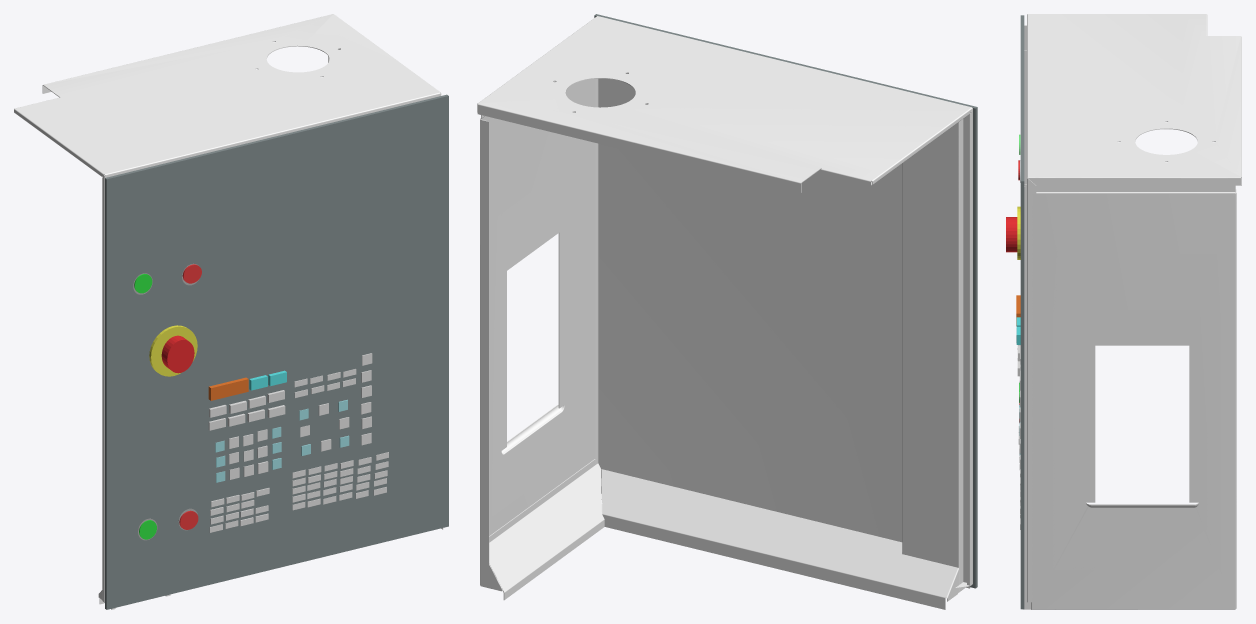
Rendered from control panel new versio.fbx.
3 views of the same model, side by side, from view 1: azimuth 30°, elevation 25°; view 2: azimuth 150°, elevation 25°; view 3: azimuth 270°, elevation 25° (orthographic). The views are drawn at different scales.
Parts seen in each view (by area): view 1: Cube.002, Cube.011, ST20_25_Reboot_2_axis_STL___ST20_25_Reboot_2_axis_STEP_2019., Cylinder.008, Cylinder.009, Cube.001; view 2: ST20_25_Reboot_2_axis_STL___ST20_25_Reboot_2_axis_STEP_2019. (×4), Cube.002; view 3: ST20_25_Reboot_2_axis_STL___ST20_25_Reboot_2_axis_STEP_2019. (×3), Cube.011, Cube.002, Cylinder.009.
Part boxes in pixels (<box>): Cube.002: <box>105,96,441,609</box>; Cube.011: <box>112,94,448,607</box>; ST20_25_Reboot_2_axis_STL___ST20_25_Reboot_2_axis_STEP_2019.: <box>14,14,441,602</box>; Cylinder.008: <box>149,325,197,376</box>; Cylinder.009: <box>161,335,194,373</box>; Cube.001: <box>208,377,248,400</box>; ST20_25_Reboot_2_axis_STL___ST20_25_Reboot_2_axis_STEP_2019. (×4): <box>477,16,972,609</box>; Cube.002: <box>603,16,977,588</box>; ST20_25_Reboot_2_axis_STL___ST20_25_Reboot_2_axis_STEP_2019. (×3): <box>1023,14,1241,609</box>; Cube.011: <box>1020,20,1024,609</box>; Cube.002: <box>1020,15,1024,177</box>; Cylinder.009: <box>1006,217,1017,252</box>.
Size of the model in its own units: 10370 by 12811 by 6221.
